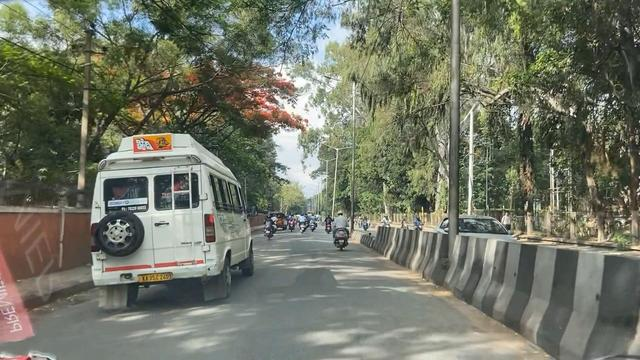HMV: (82, 146, 251, 298)
